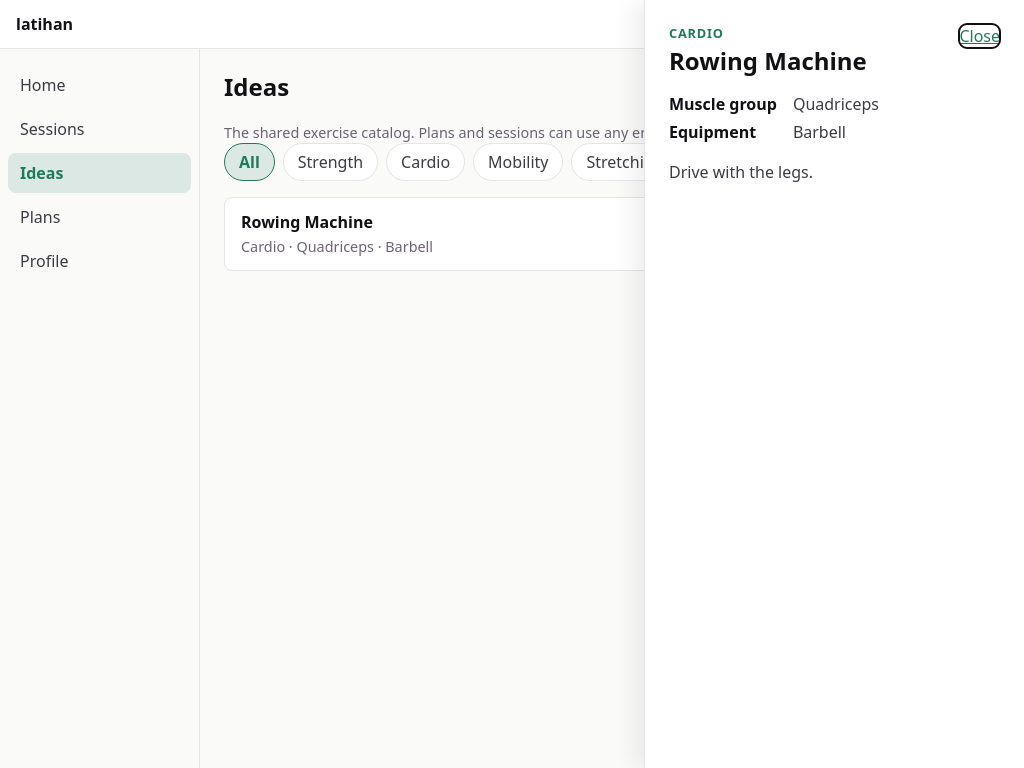
Test case: the Ideas page › loads a linked exercise from the server, and Close stays on Ideas
Expected: the text "Drive with the legs." is shown, [669,161,813,183]
Nothing to go back to: Close removes the exercise from the URL instead.
Click the button "Close" at coordinates (980, 36), box [959,24,1000,48]
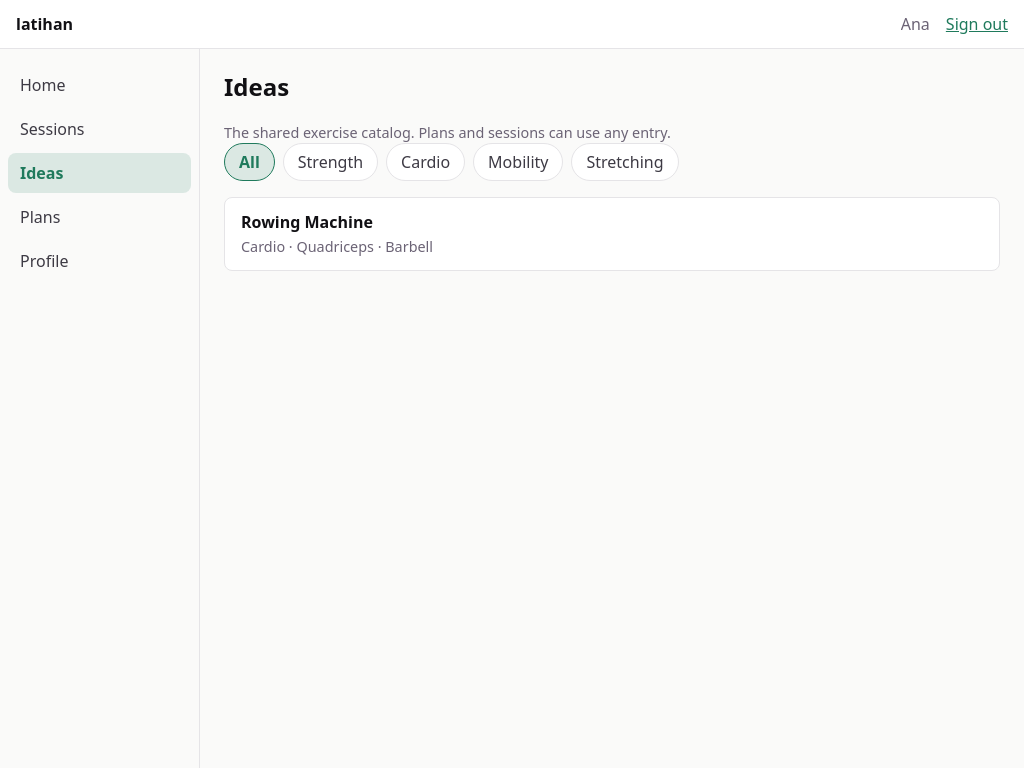
Expected: the dialog is gone
